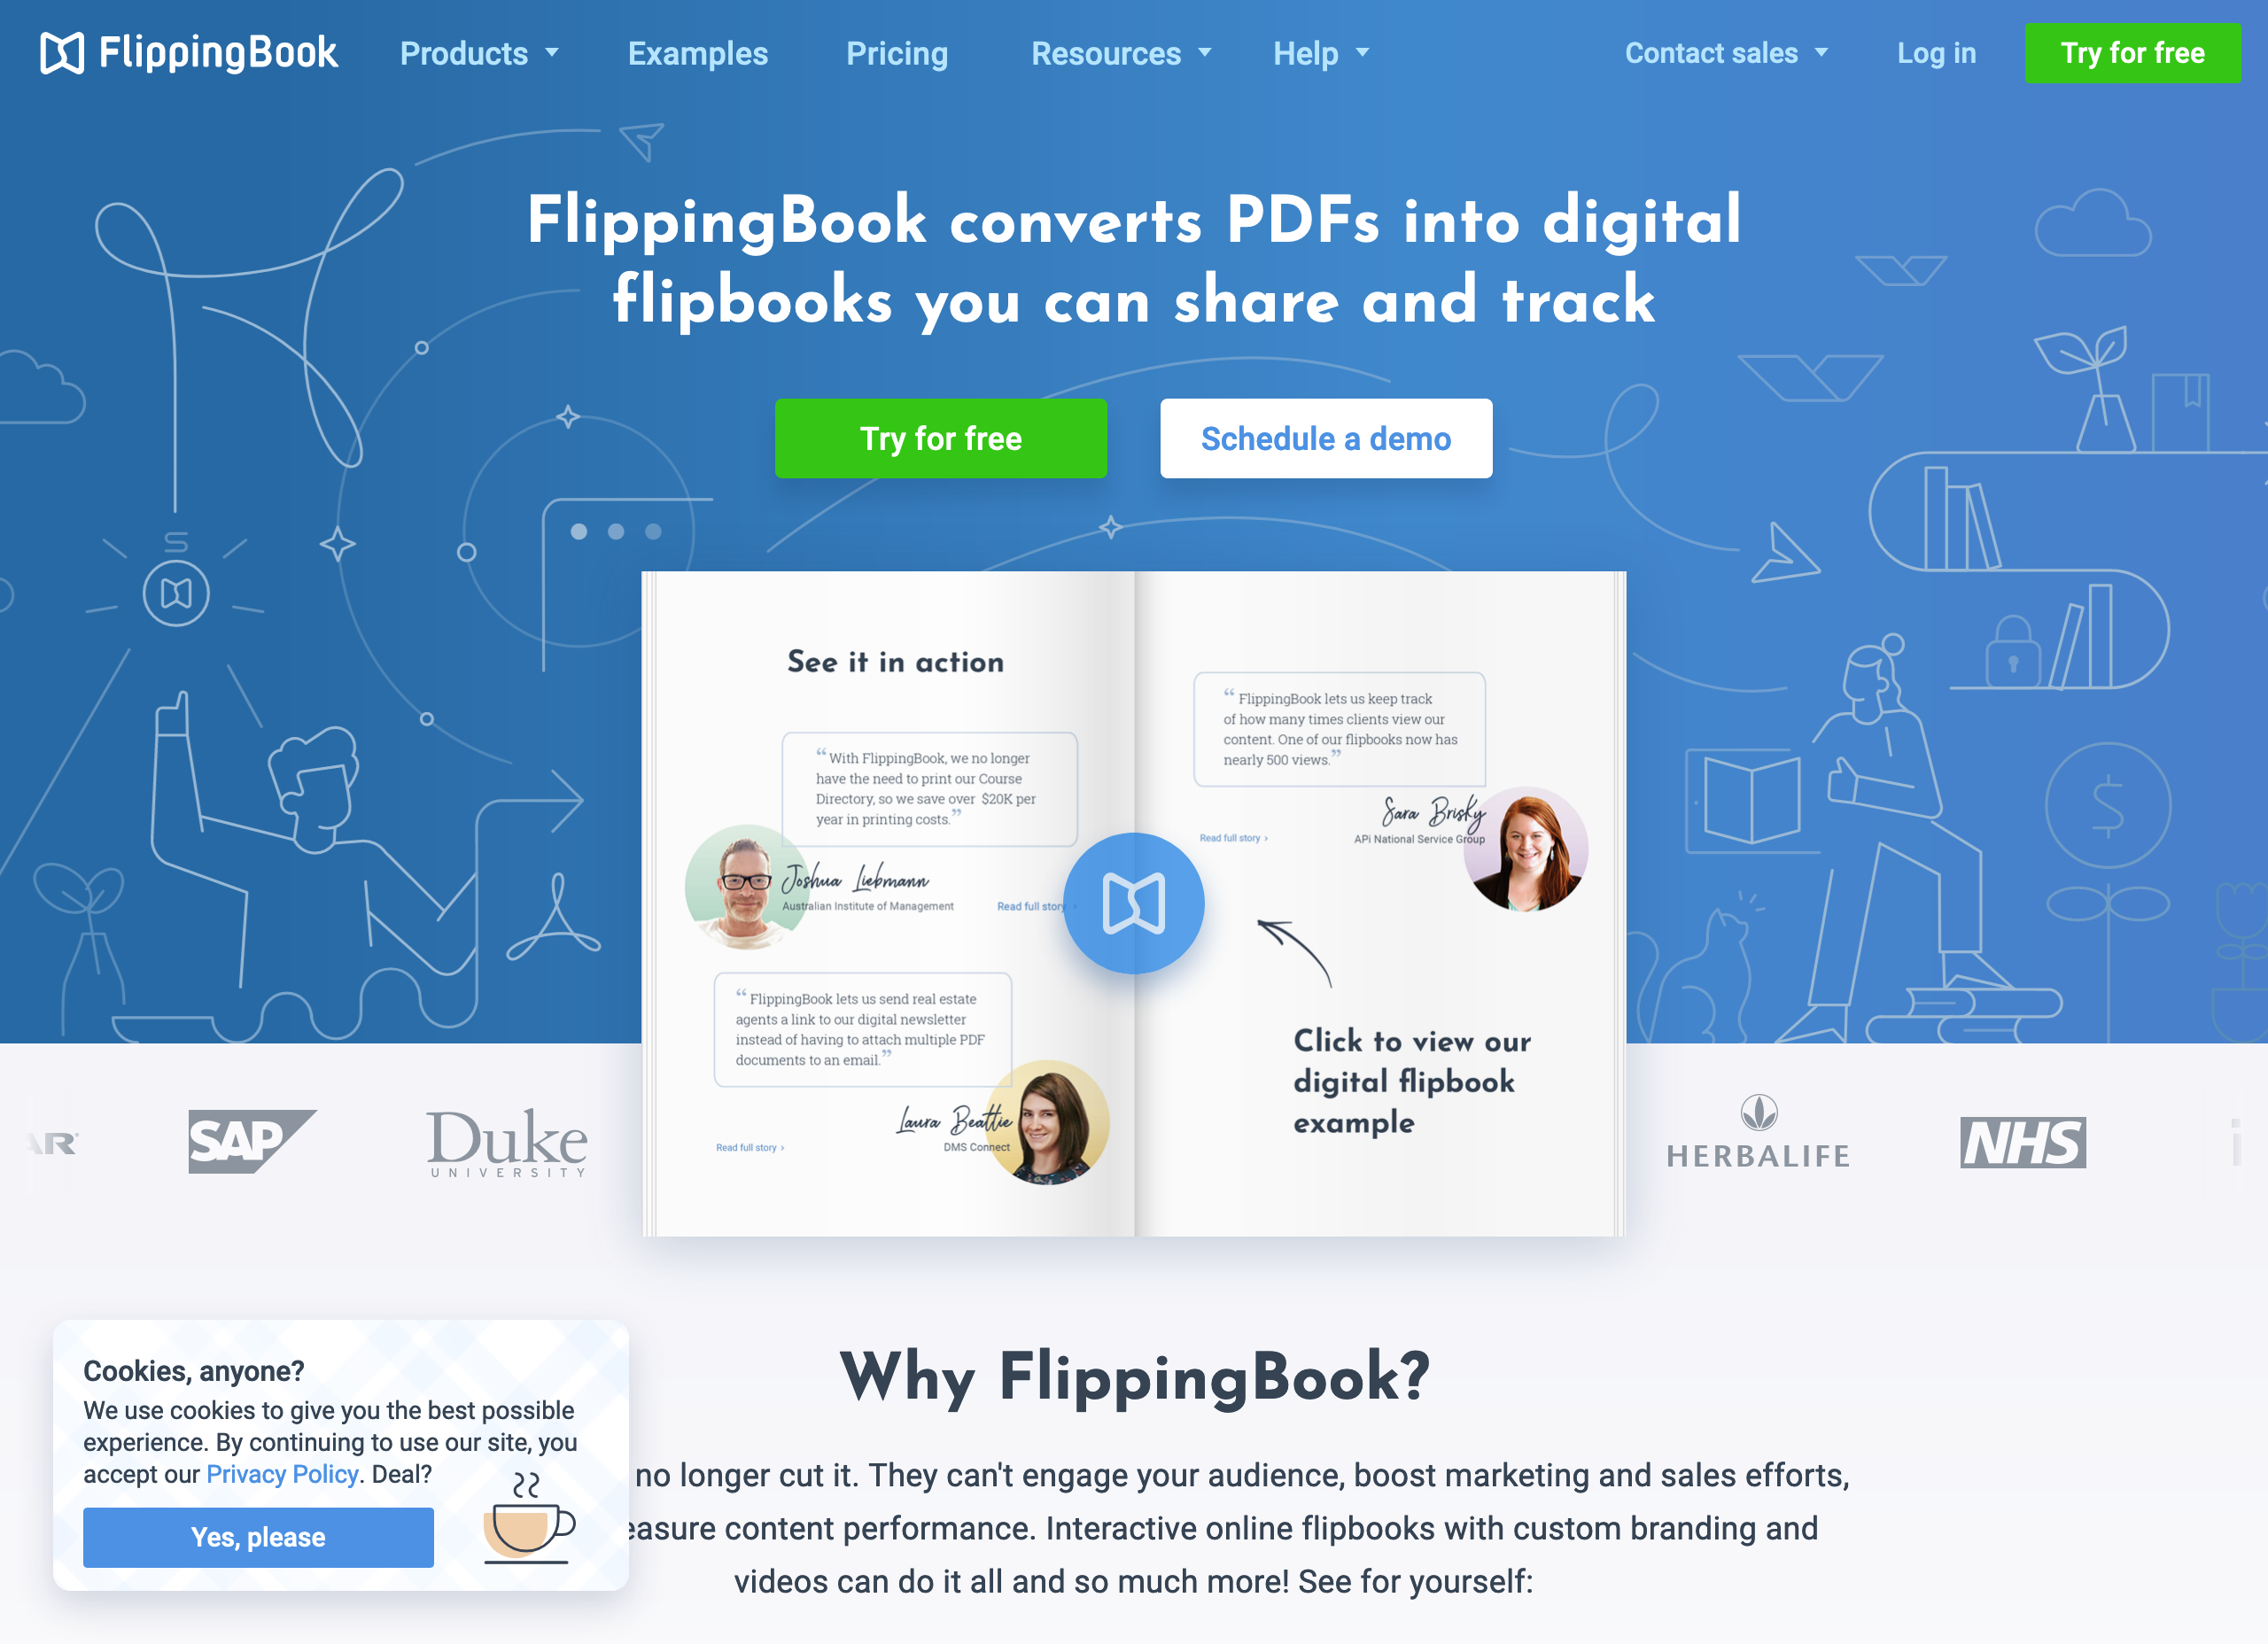Login: (1884, 23, 1995, 86)
